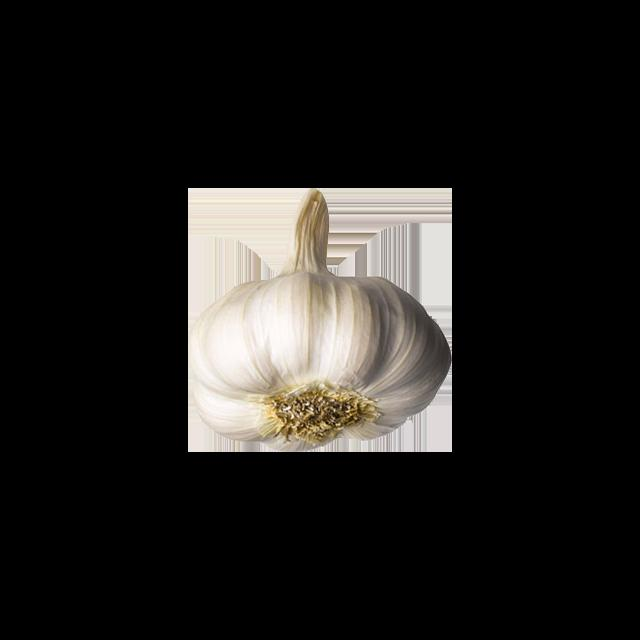garlic: (188, 246, 450, 452)
